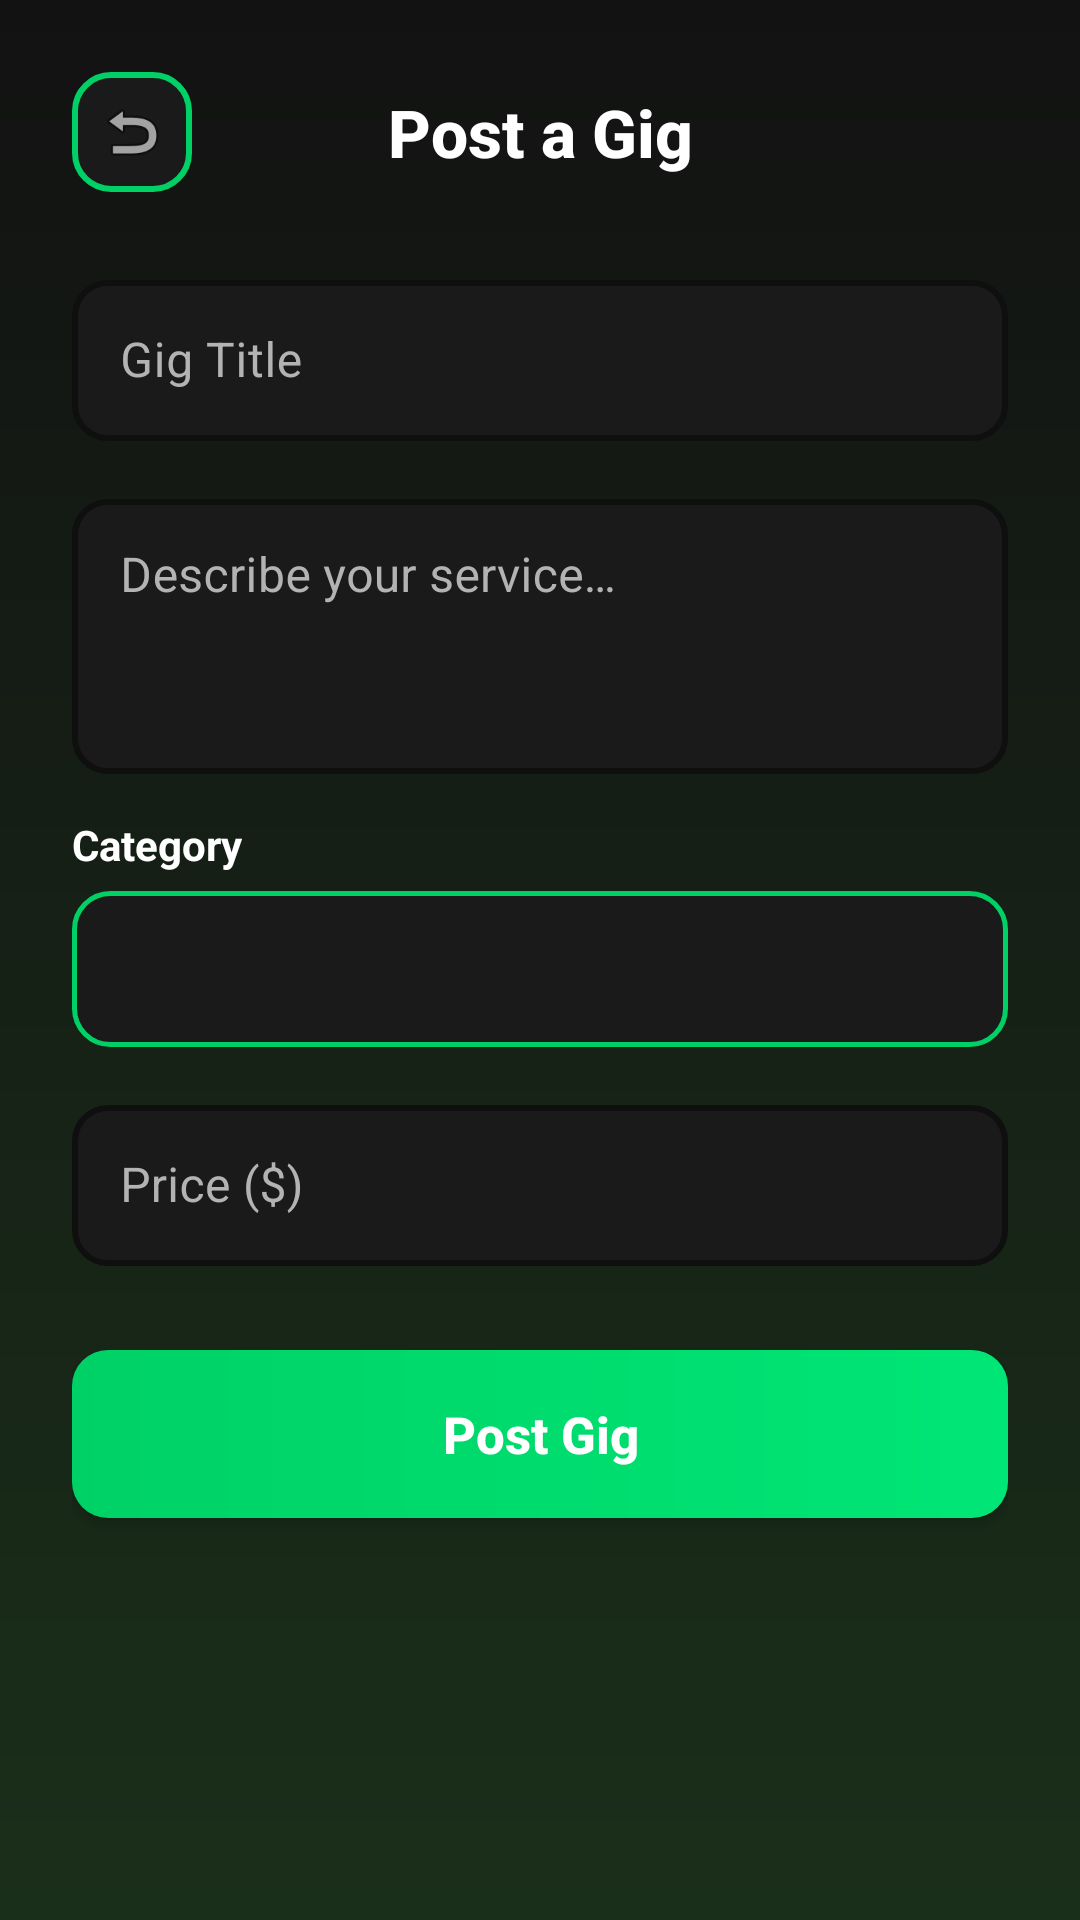

Icon click points for this 1080×1920 phone screenshot, format (x,y):
Back: (132,132)
